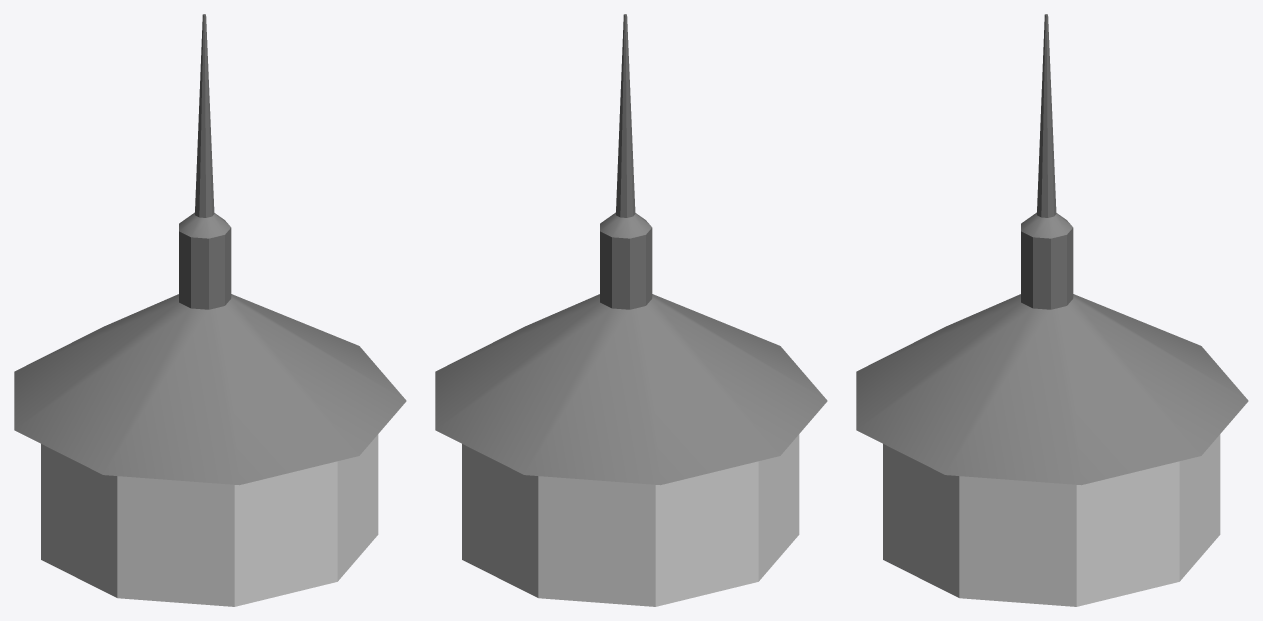
Rendered from  Rectal (Dome).fbx.
3 renders of one model, left to right at view 1: azimuth 30°, elevation 25°; view 2: azimuth 150°, elevation 25°; view 3: azimuth 270°, elevation 25°, orthographic.
Visible parts, largest first — view 1: Rectal (Dome); view 2: Rectal (Dome); view 3: Rectal (Dome).
Boxes of the visible parts, left/top/right/bottom form: Rectal (Dome): left=14, top=14, right=406, bottom=606; Rectal (Dome): left=435, top=14, right=827, bottom=606; Rectal (Dome): left=856, top=14, right=1248, bottom=606.
Size of the model in its own units: 1301 by 1871 by 1281.
